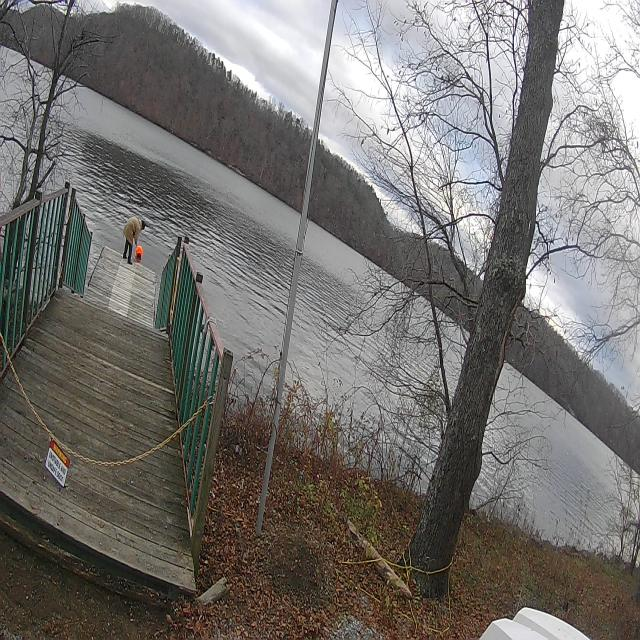Buoy: (136, 245, 143, 261)
